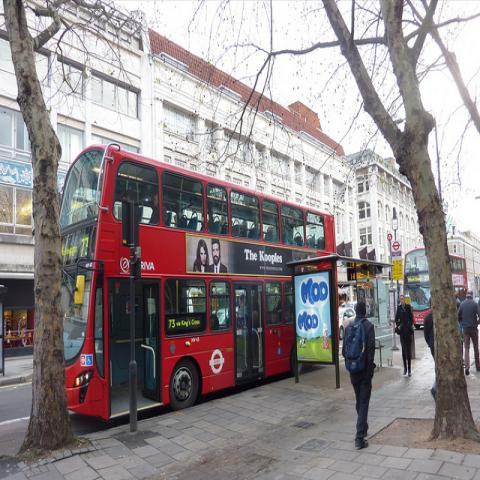bus: (58, 138, 335, 420), (402, 247, 468, 329)
car: (338, 306, 357, 341)
